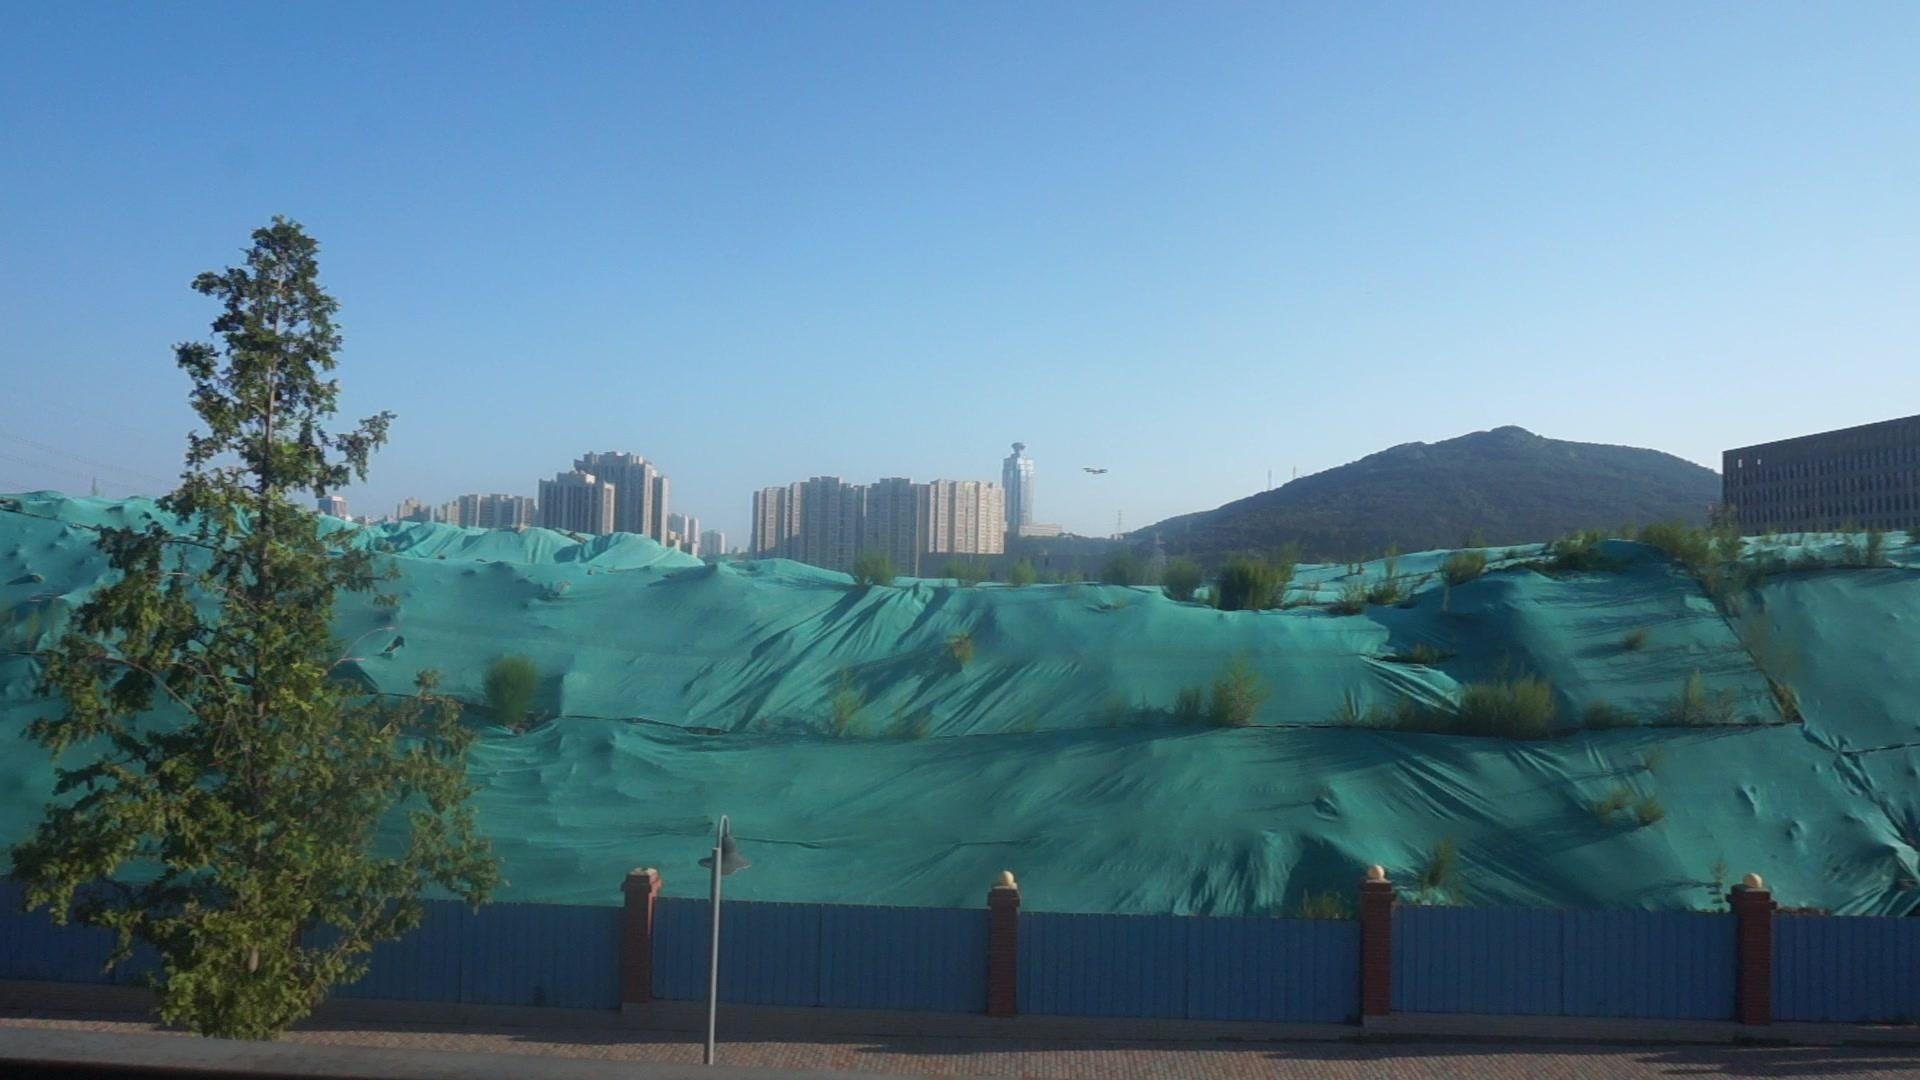UAV: (1083, 468, 1109, 476)
